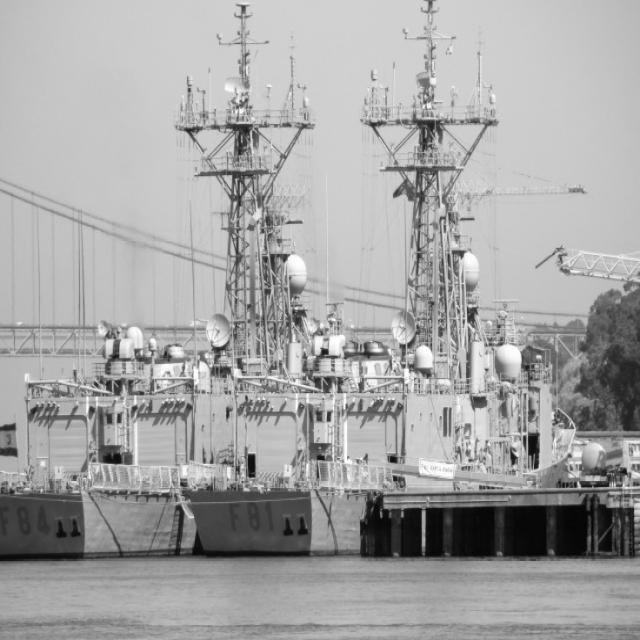Fragata: (179, 1, 574, 563), (1, 1, 338, 562)
